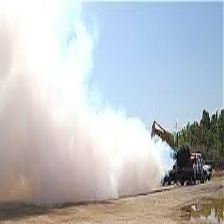smoke: (1, 11, 165, 196)
